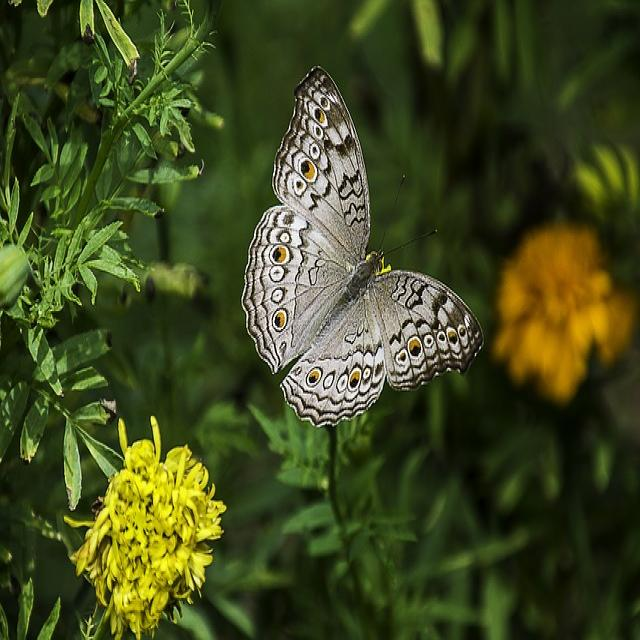butterfly: (242, 68, 482, 425)
